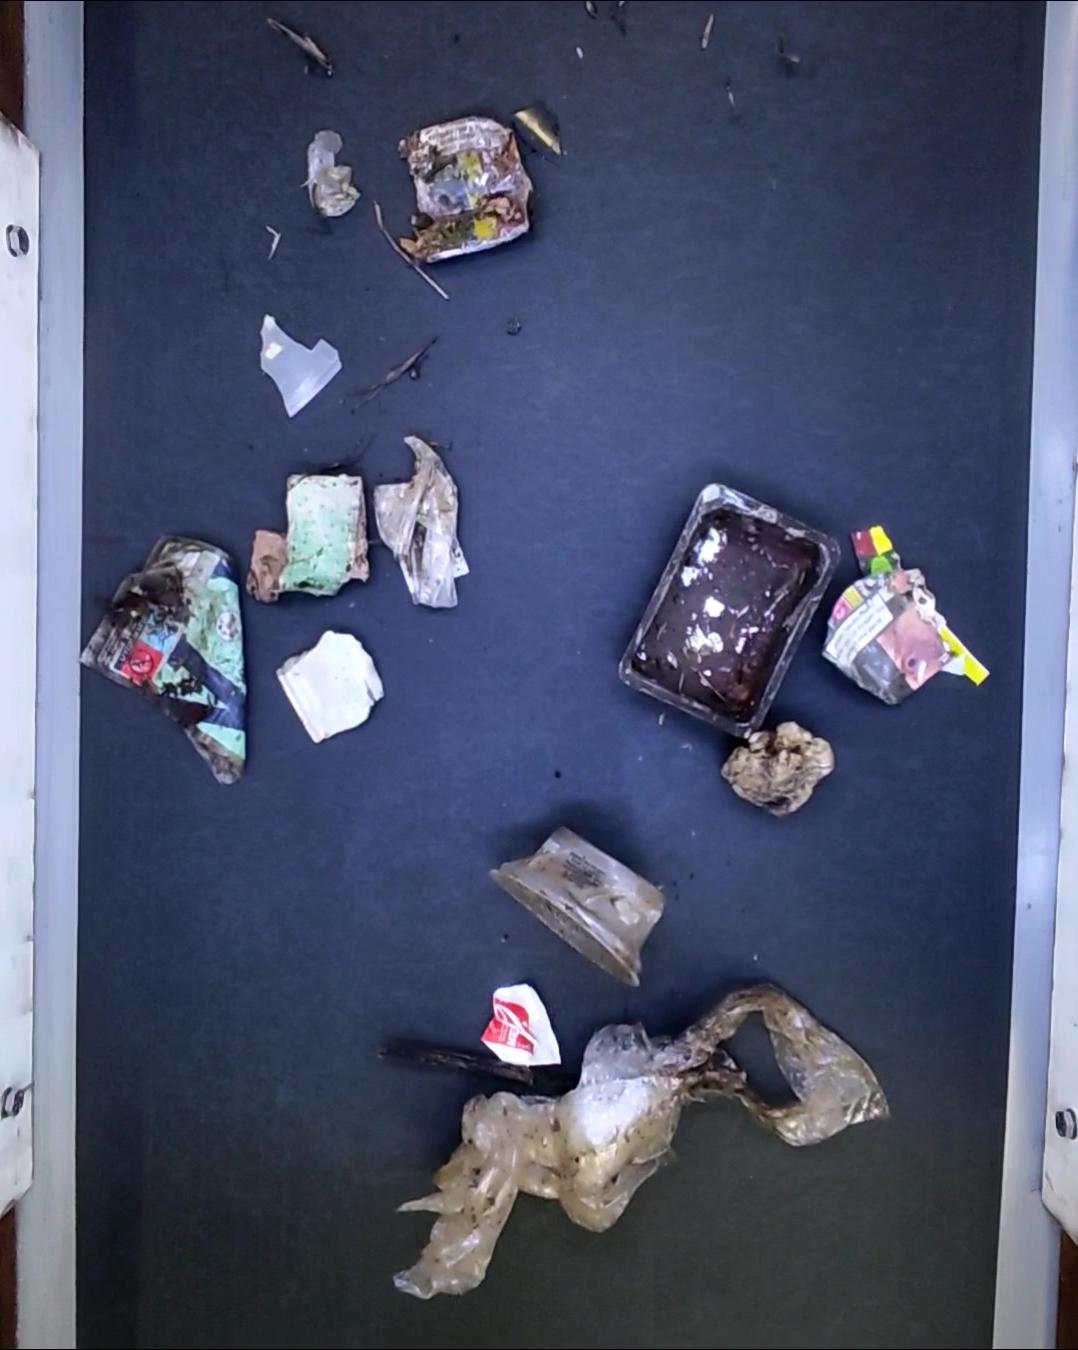Plastic folies of stukken daarvan 2.5- 50 cm: (392, 977, 893, 1299), (374, 431, 470, 614), (306, 132, 358, 220)
Snoep snack en chips verpakkingen: (486, 981, 570, 1067), (851, 525, 899, 578)
Voedselverpakkingen: (615, 481, 840, 738), (490, 826, 664, 985)
